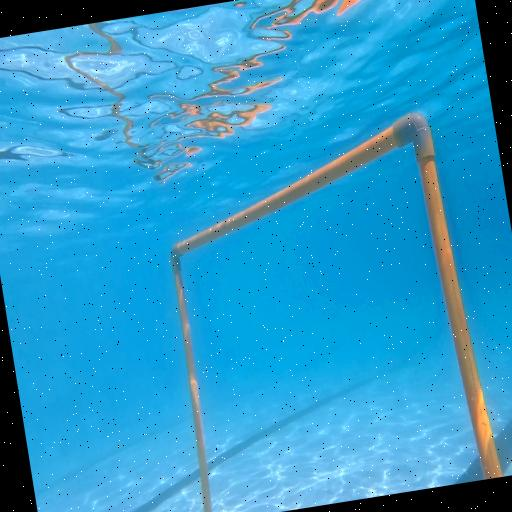gate: (143, 105, 504, 512)
